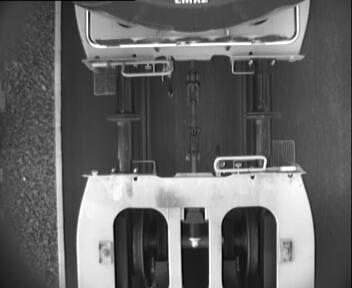Copy of Copy of Copy of wagon_scan: (99, 199, 291, 288)
